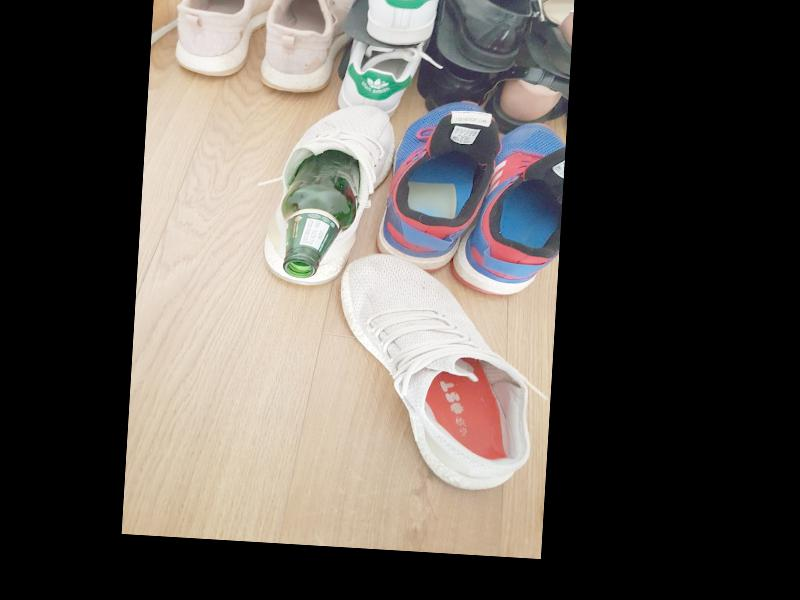Beer: (277, 148, 363, 281)
